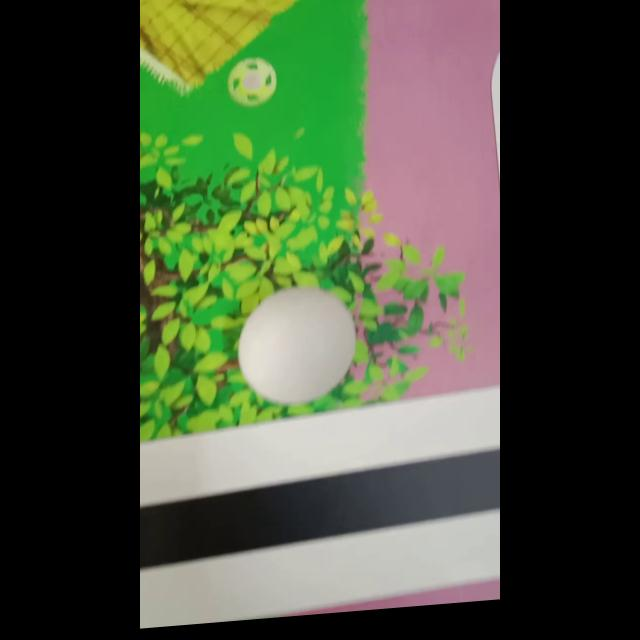white ball: (237, 280, 357, 410)
